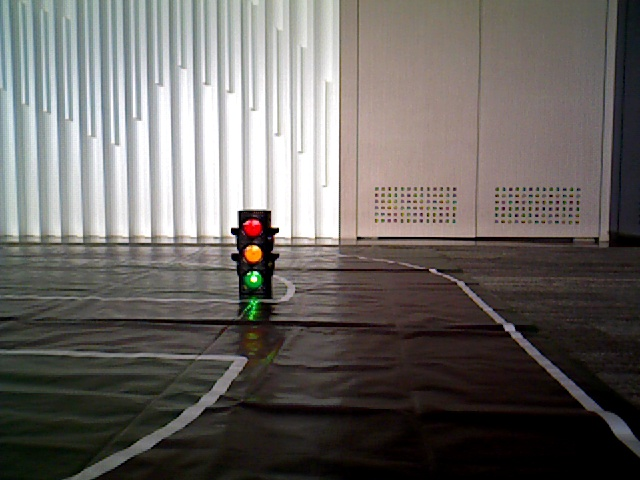green: (243, 213, 268, 288)
